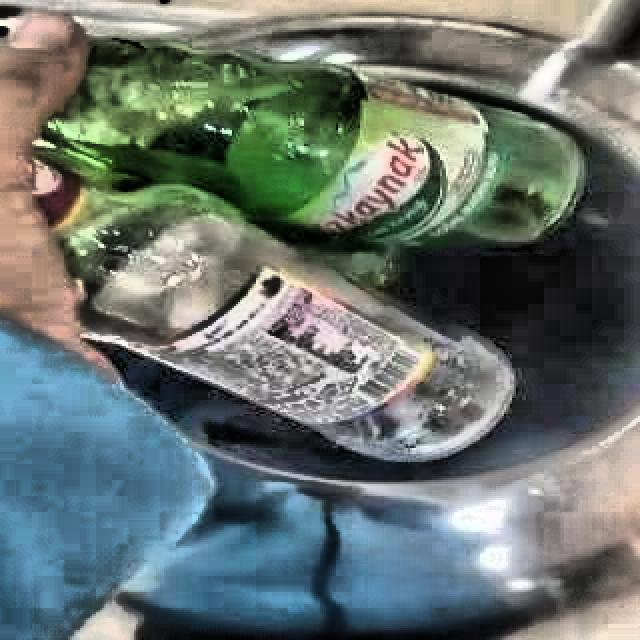glass: (35, 39, 584, 461)
